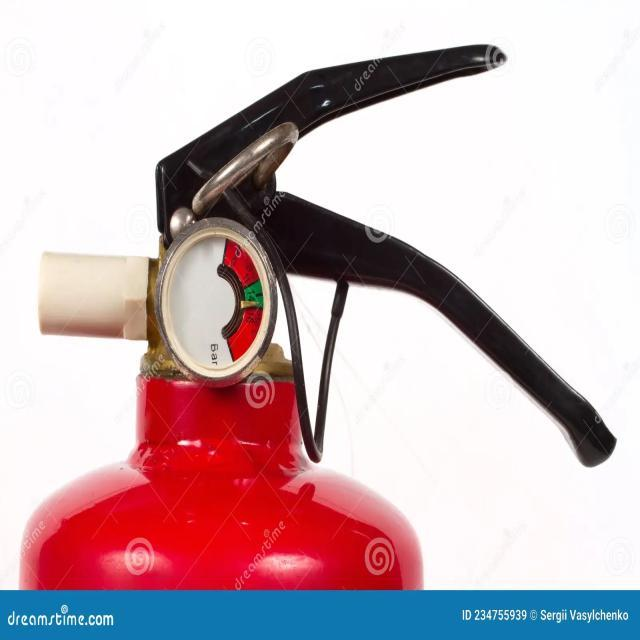pressure gauge: (157, 218, 276, 385)
